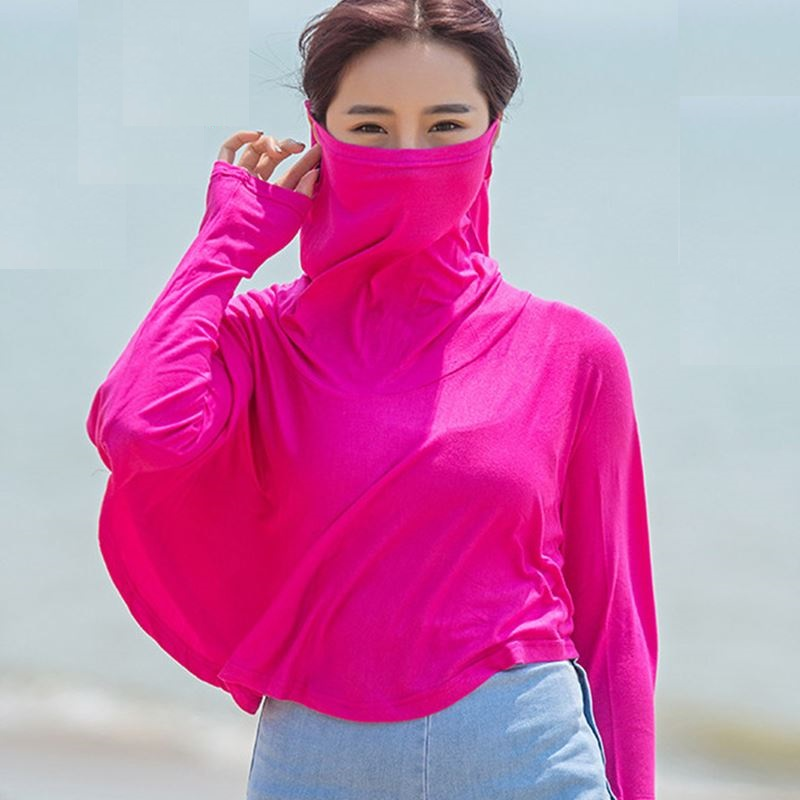face_mask: (319, 36, 491, 247)
